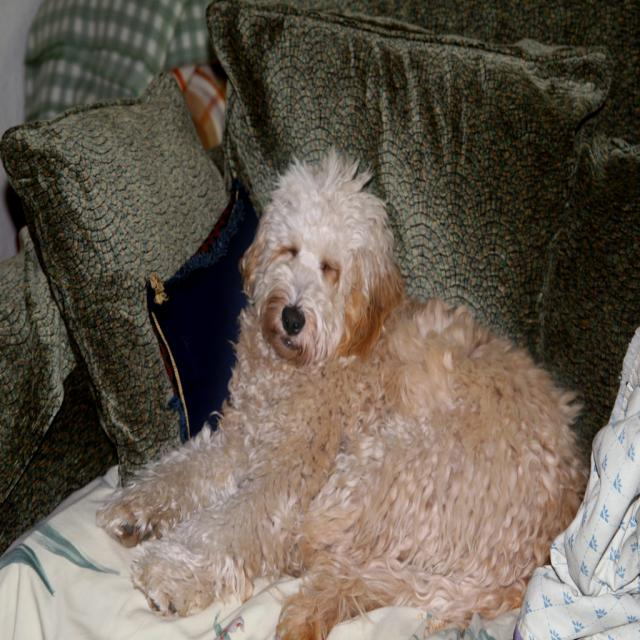Dog: (94, 142, 592, 638)
